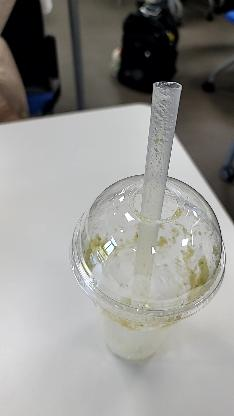Plastic Cup: (66, 173, 226, 378), (62, 176, 227, 326)
